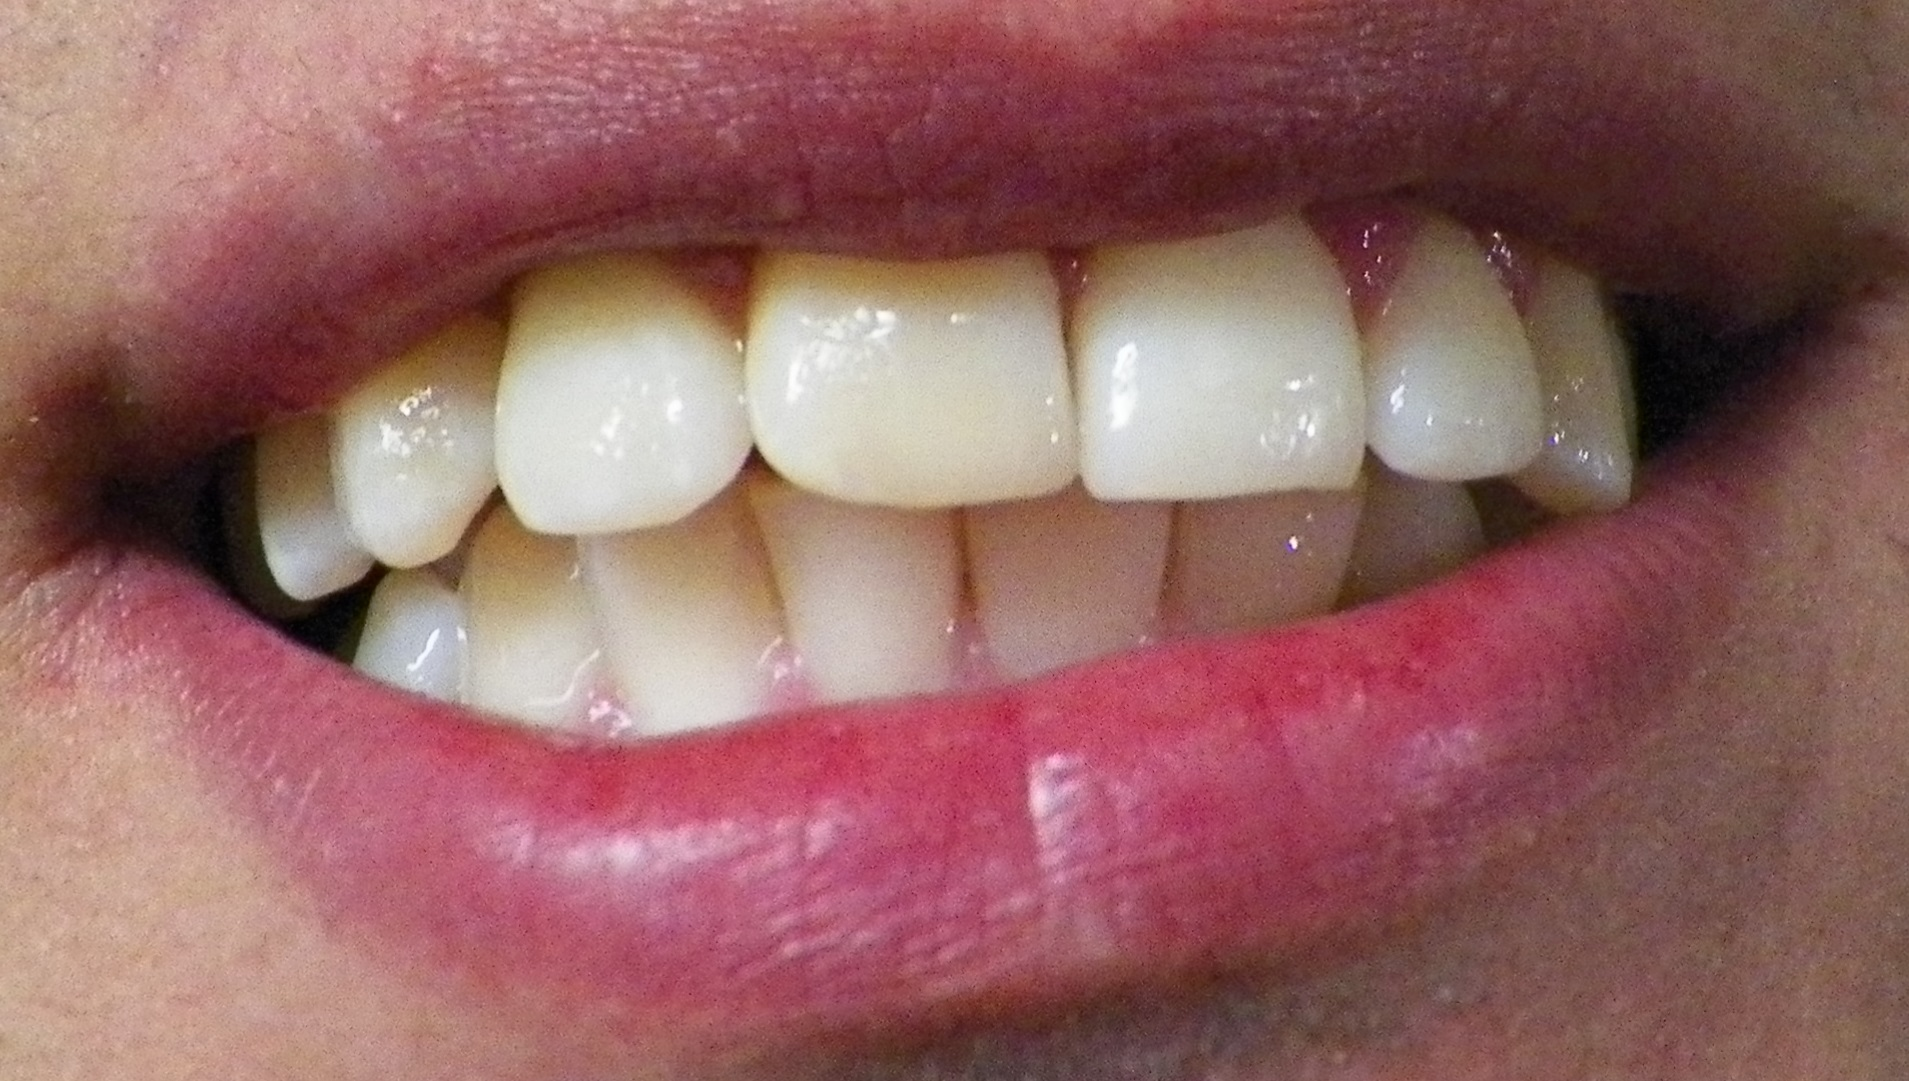boca: (265, 226, 1647, 708)
